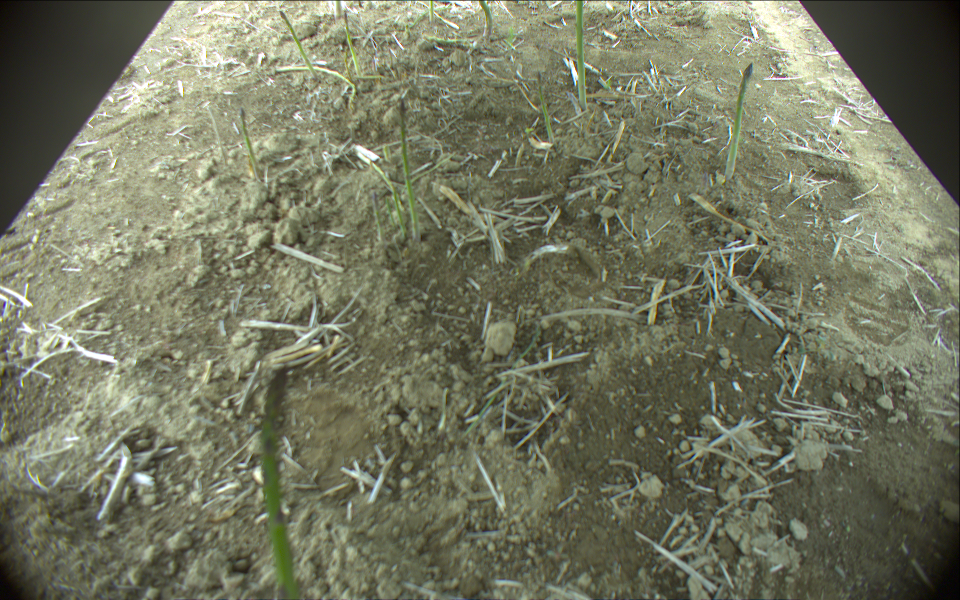aspa: (260, 367, 298, 600), (724, 61, 754, 182), (397, 98, 421, 240), (367, 159, 406, 237), (276, 65, 359, 100), (279, 10, 318, 77), (239, 111, 263, 179), (536, 73, 556, 148), (575, 1, 588, 108), (345, 14, 363, 74), (370, 185, 385, 242), (476, 1, 494, 42), (385, 194, 400, 233), (423, 35, 479, 44), (426, 1, 436, 24), (335, 1, 344, 21)
